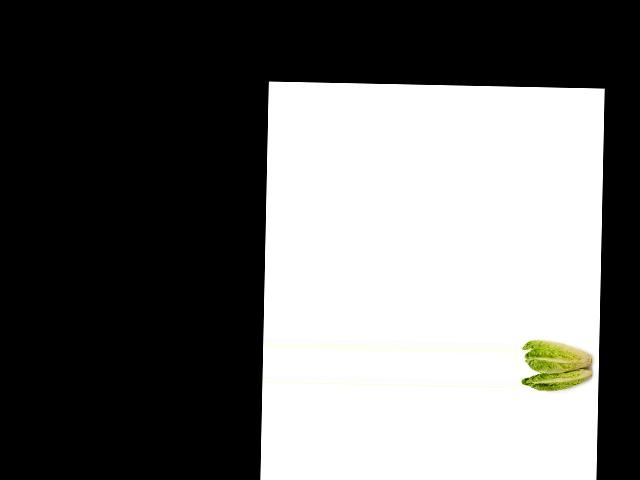lettuce: (520, 365, 596, 399)
